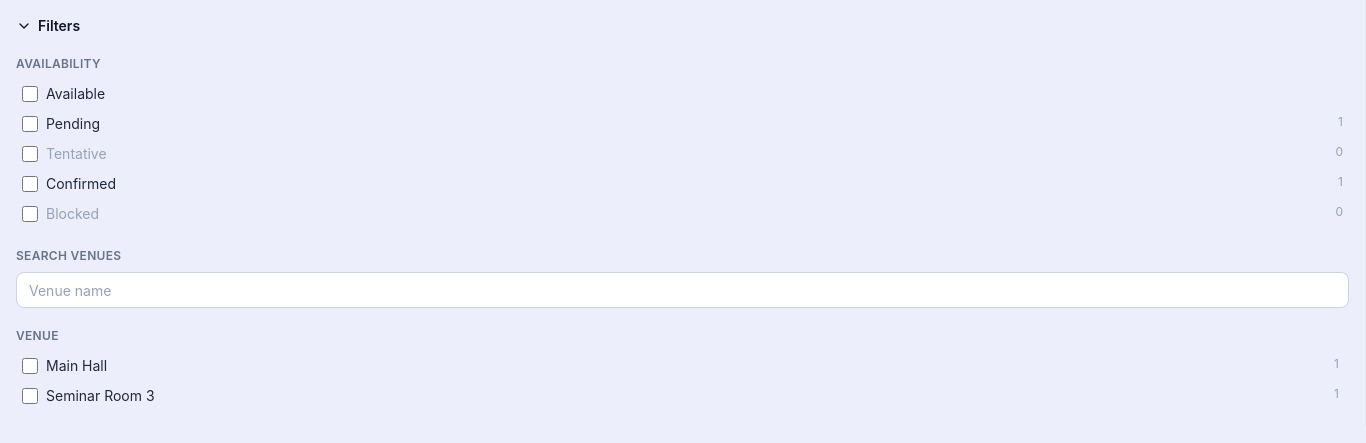
US-16 AC-3: filter panel › US-16 AC-3: a venue search box replaces the "starts with" letters
In the search field labelled "Search venues": (682, 290) x1=16 y1=272 x2=1349 y2=308, type "seminar"
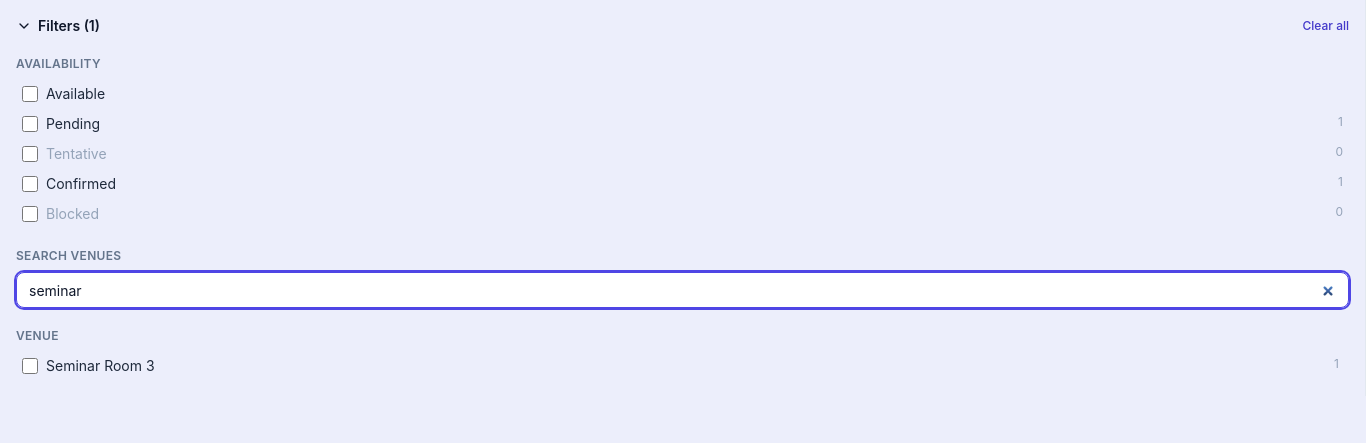
Check: the checkbox labelled "Seminar Room 3 1" is shown, box x1=22 y1=358 x2=38 y2=374
Check: the text "Main Hall" is gone
Check: the button "Filters (1)" is shown, box x1=16 y1=16 x2=100 y2=36
